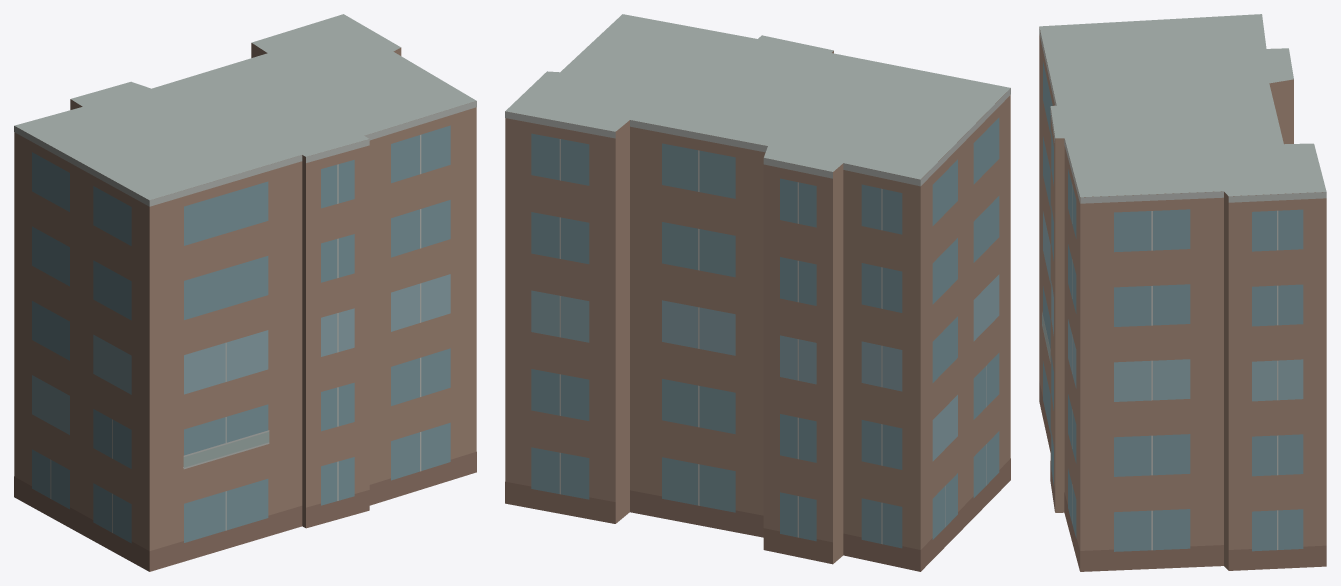
The model's file is survey-upis-32974260.glb.
3 renders of one model, left to right at view 1: azimuth 30°, elevation 25°; view 2: azimuth 150°, elevation 25°; view 3: azimuth 270°, elevation 25°, orthographic. The views are drawn at different scales.
Visible parts, largest first — view 1: survey-upis-32974260.tmp; view 2: survey-upis-32974260.tmp; view 3: survey-upis-32974260.tmp.
Boxes of the visible parts, box(x1,y1,x2,y2) form: survey-upis-32974260.tmp: box(14, 14, 476, 571); survey-upis-32974260.tmp: box(505, 14, 1010, 571); survey-upis-32974260.tmp: box(1039, 14, 1326, 571).
Bounding box in the file's own units: 14.91 × 14.2 × 9.88.
